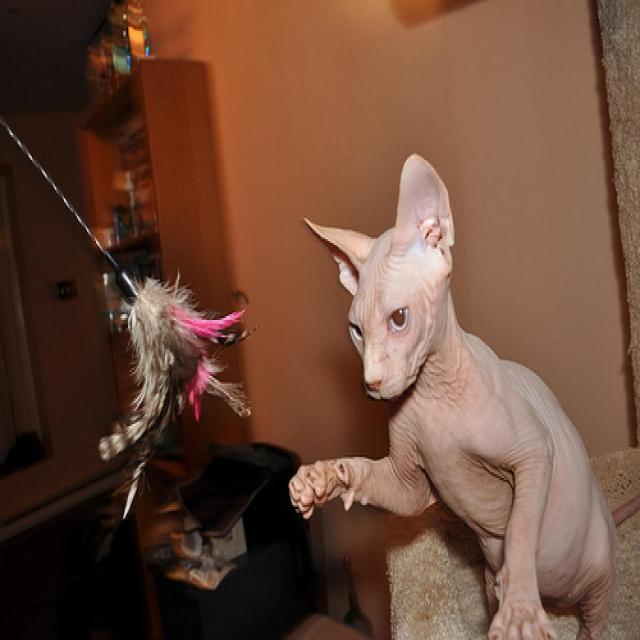Sphynx: (298, 148, 465, 406)
